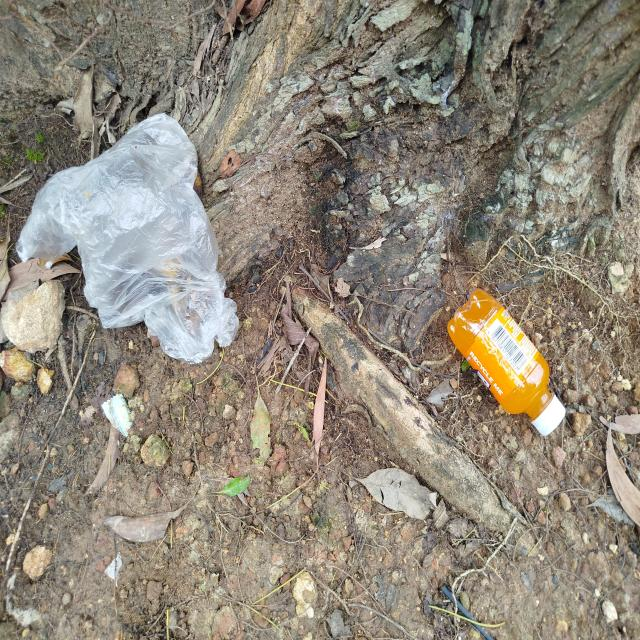plastic: (436, 282, 580, 442)
residual: (18, 109, 248, 363)
